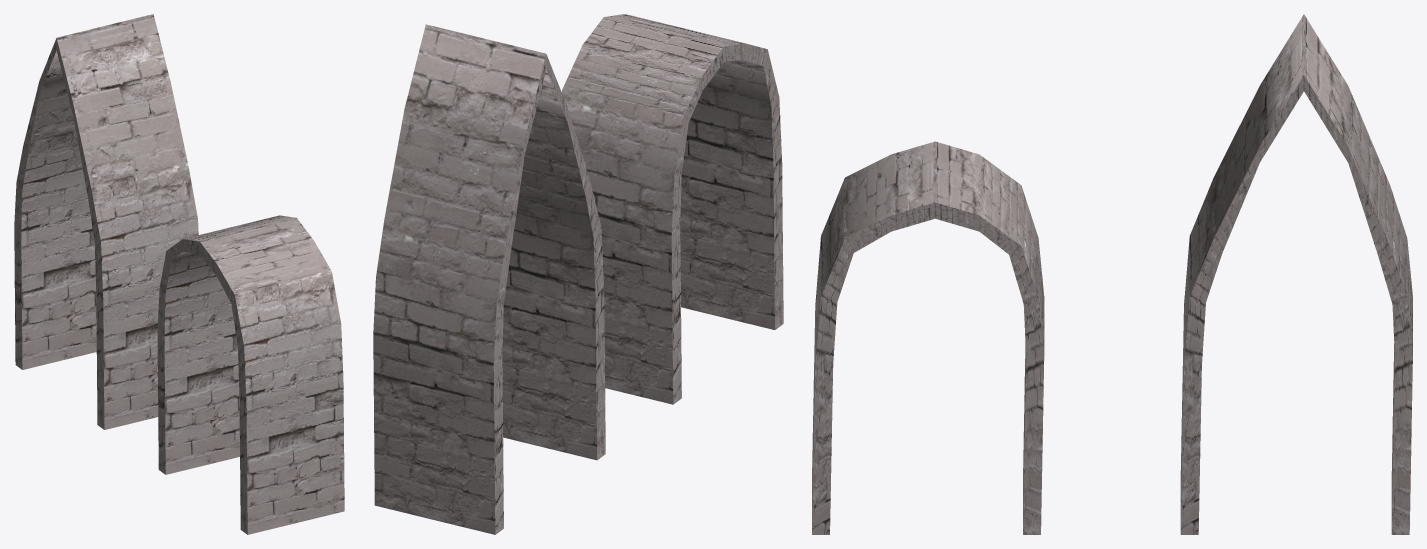
File: Arches.FBX
3 renders of one model, left to right at view 1: azimuth 30°, elevation 25°; view 2: azimuth 150°, elevation 25°; view 3: azimuth 270°, elevation 25°, orthographic. The views are drawn at different scales.
Parts seen in each view (by area): view 1: Gothic_Arch, Roman_Arch; view 2: Gothic_Arch, Roman_Arch; view 3: Gothic_Arch, Roman_Arch.
Part boxes in pixels (<box>): Gothic_Arch: <box>14,14,198,429</box>; Roman_Arch: <box>157,215,344,534</box>; Gothic_Arch: <box>373,24,605,534</box>; Roman_Arch: <box>561,14,783,404</box>; Gothic_Arch: <box>1180,14,1412,534</box>; Roman_Arch: <box>812,141,1044,534</box>.
Bounding box in the file's own units: 23.88 × 84.07 × 99.52.
Materials: 1 (1 with a texture image).
